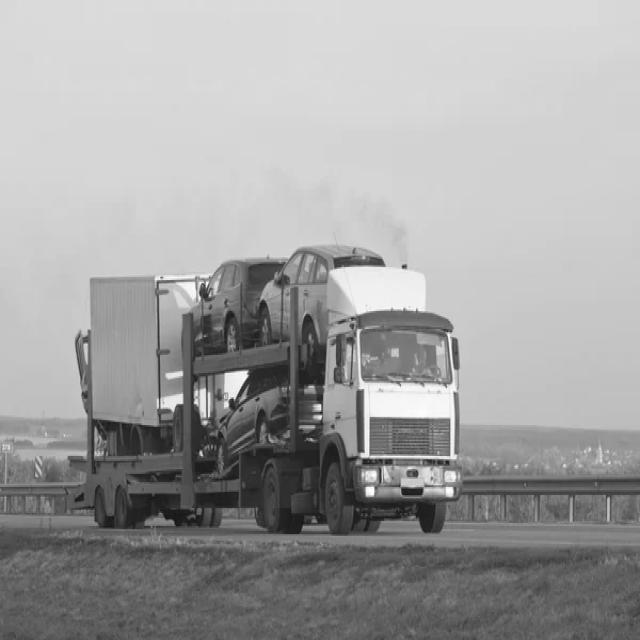Truck: (67, 267, 463, 536)
